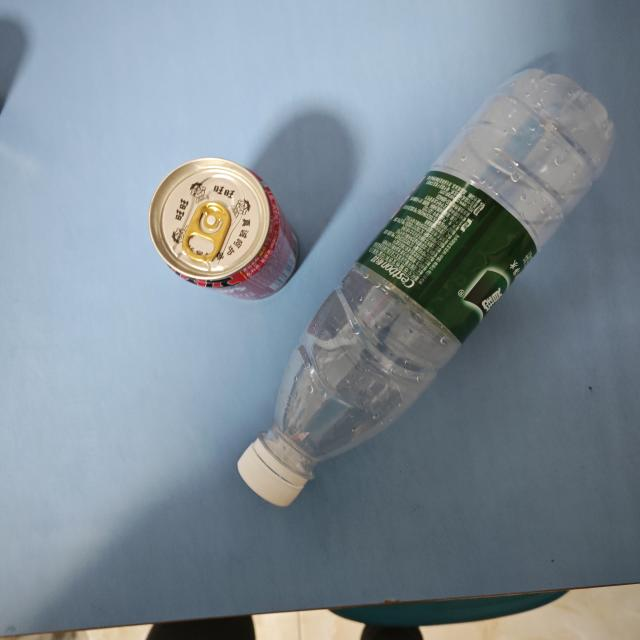-Recyclables - can-: (146, 158, 302, 300)
-Recyclables - plastic bottle-: (235, 65, 622, 506)
